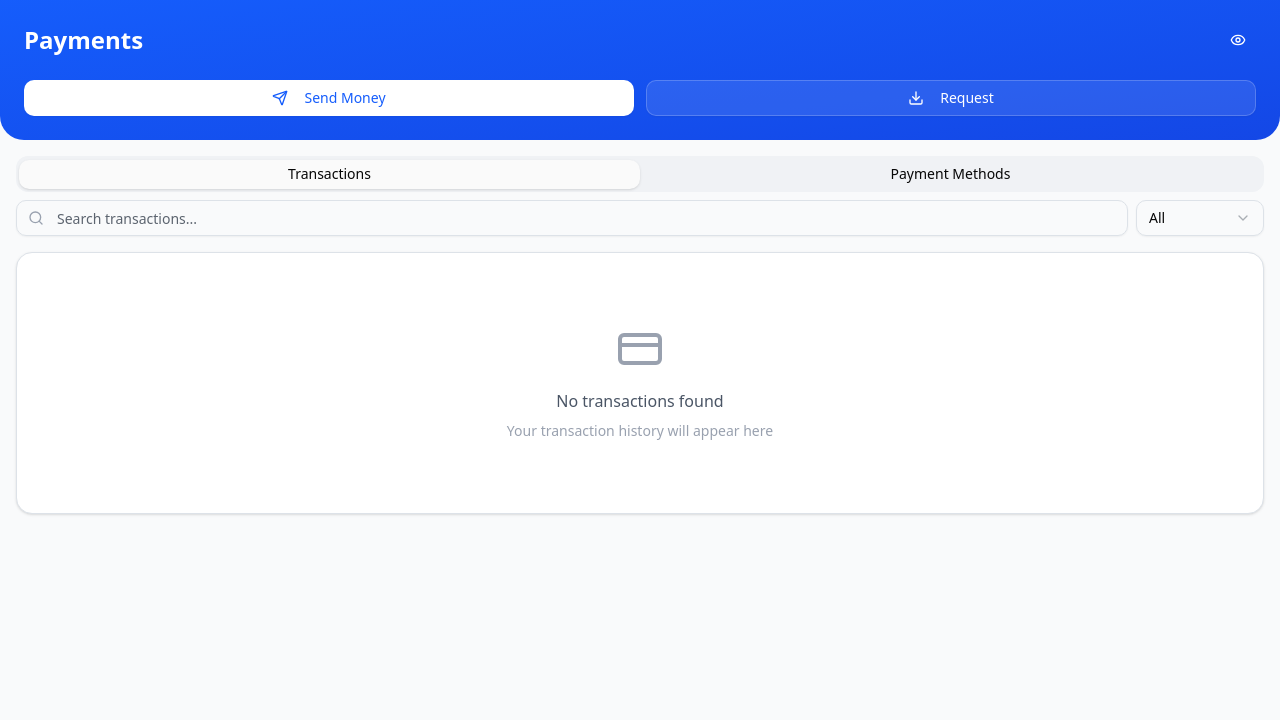
MobilePaymentsModule › switches to payment methods tab
What coordinates should you click on to do the following:
click the tab "Payment Methods"
I would click on:
 (950, 174)
Its box is [640, 160, 1261, 188].
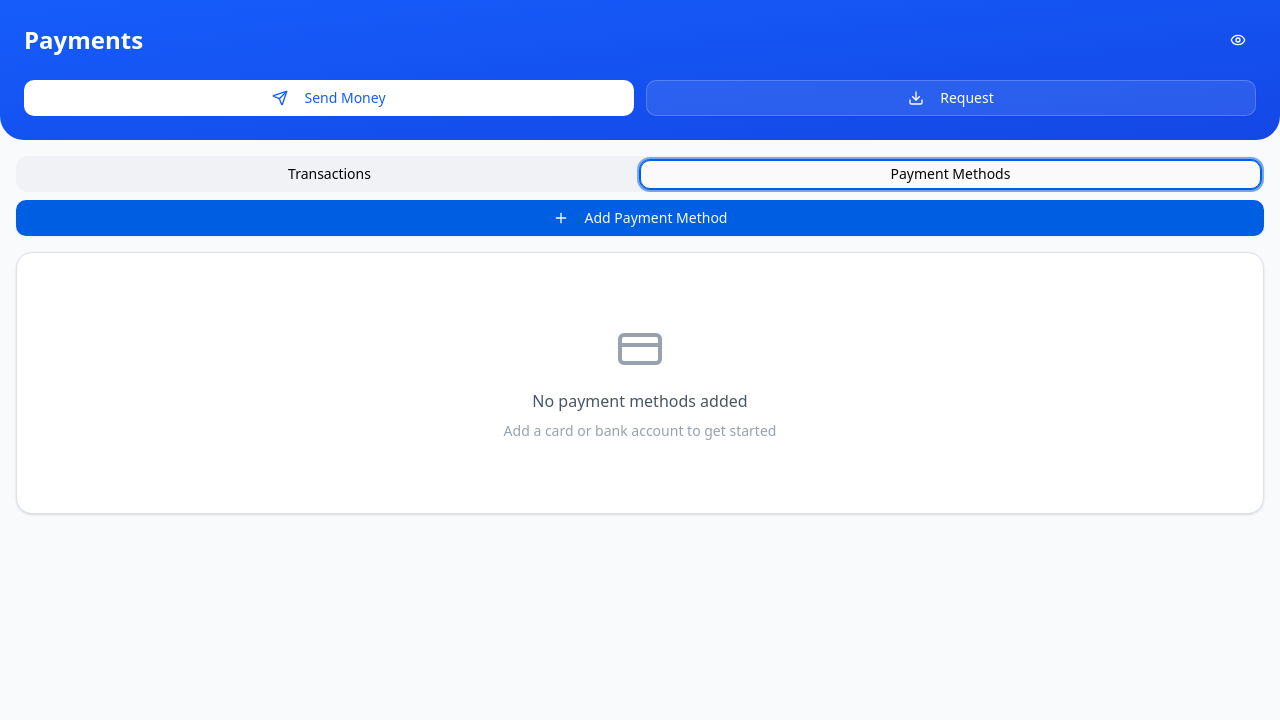
Expected: the button "Add Payment Method" is shown, [16, 200, 1264, 236]
